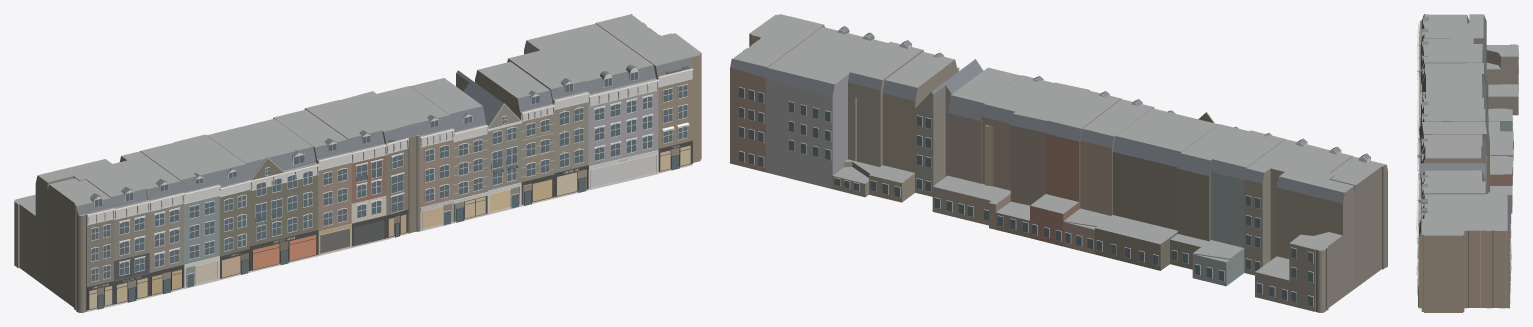
Rendered from chunk-face-hooft-29-63.glb.
3 views of the same model, side by side, from view 1: azimuth 30°, elevation 25°; view 2: azimuth 150°, elevation 25°; view 3: azimuth 270°, elevation 25° (orthographic). The views are drawn at different scales.
Parts seen in each view (by area): view 1: face-hooft-29-63; view 2: face-hooft-29-63; view 3: face-hooft-29-63.
Boxes of the visible parts, x1,y1,x2,y2 form: face-hooft-29-63: [14, 14, 701, 312]; face-hooft-29-63: [730, 14, 1387, 312]; face-hooft-29-63: [1416, 14, 1518, 312].
Bounding box in the file's own units: 119 × 20.25 × 23.17.
